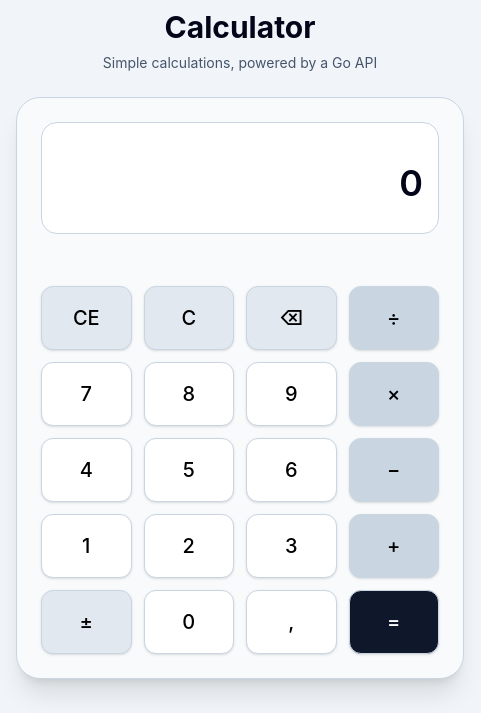
Test: Calculator › calculations › performs multiplication through the calculator API
The width and height of the screenshot is (481, 713).
Click the button "6". click: (291, 470)
box: [246, 438, 336, 502]
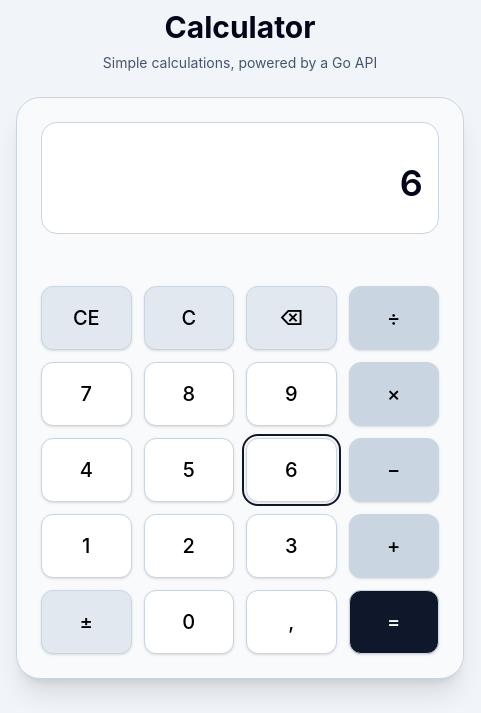
Click the button named "Multiply". click: (394, 394)
box: [348, 362, 439, 426]
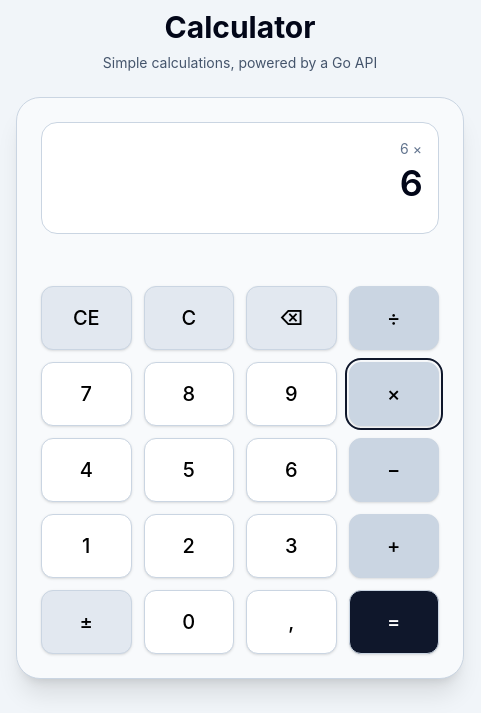
Click the button "7". click: (86, 394)
box: [41, 362, 132, 426]
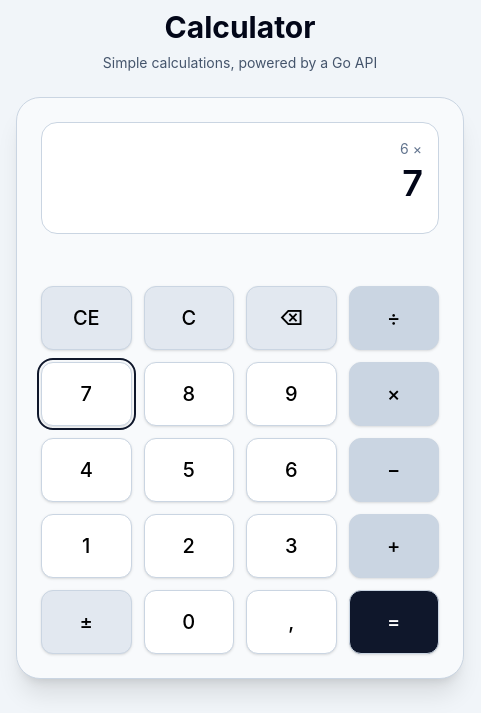
Click the button named "Calculate result". click: (394, 622)
box: [348, 590, 439, 654]
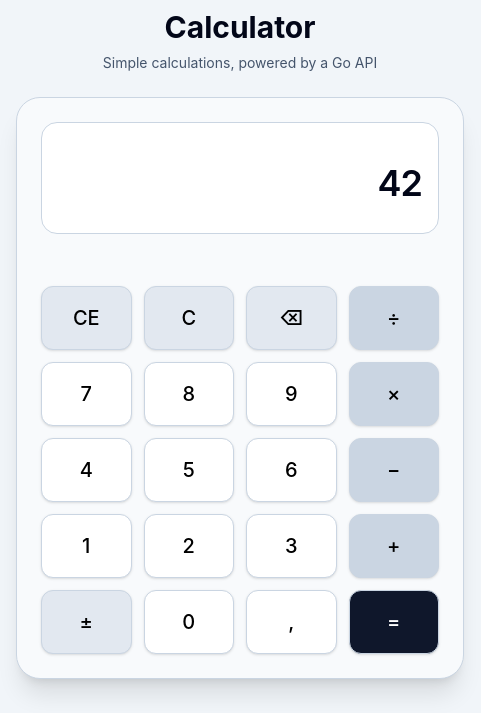
expect the text named "Calculator display" reads "42": met, box [377, 161, 422, 205]
